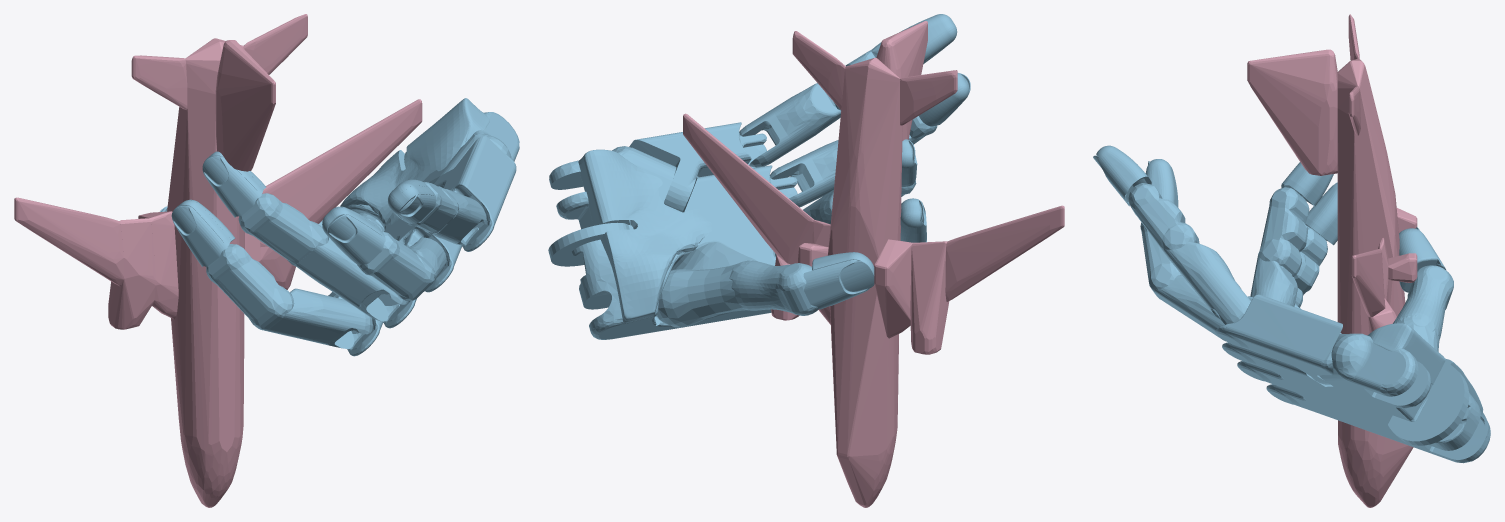
3 views of the same model, side by side, from view 1: azimuth 30°, elevation 25°; view 2: azimuth 150°, elevation 25°; view 3: azimuth 270°, elevation 25° (orthographic). The views are drawn at different scales.
Parts seen in each view (by area): view 1: world, hand_isaac_q; view 2: hand_isaac_q, world; view 3: hand_isaac_q, world.
Boxes of the visible parts, x1,y1,x2,y2 form: world: (14, 14, 422, 507); hand_isaac_q: (160, 98, 519, 356); hand_isaac_q: (548, 14, 970, 339); world: (683, 21, 1064, 507); hand_isaac_q: (1093, 145, 1490, 463); world: (1247, 14, 1417, 507).
Bounding box in the file's own units: 0.2501 × 0.2206 × 0.1739.
